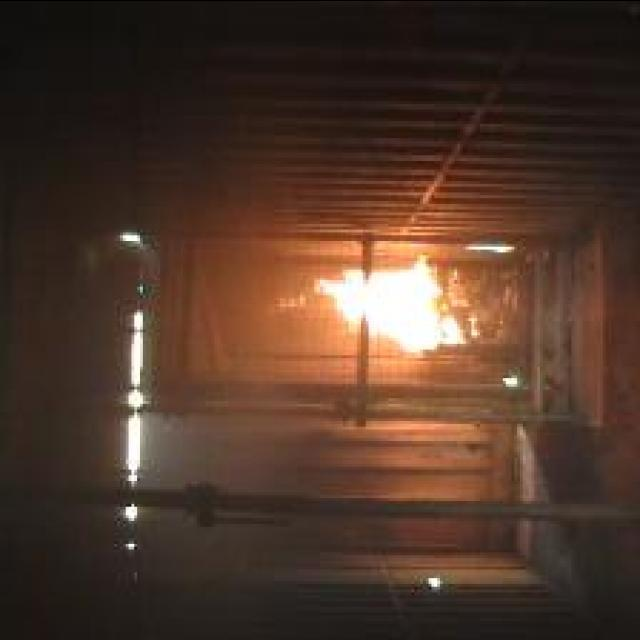Fire: (312, 252, 464, 352)
